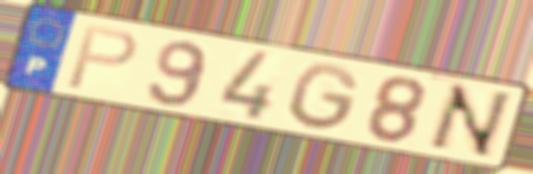4: (216, 48, 278, 124)
8: (365, 74, 430, 144)
9: (144, 38, 210, 108)
G: (286, 61, 364, 135)
N: (421, 82, 516, 161)
P: (62, 23, 142, 92)
